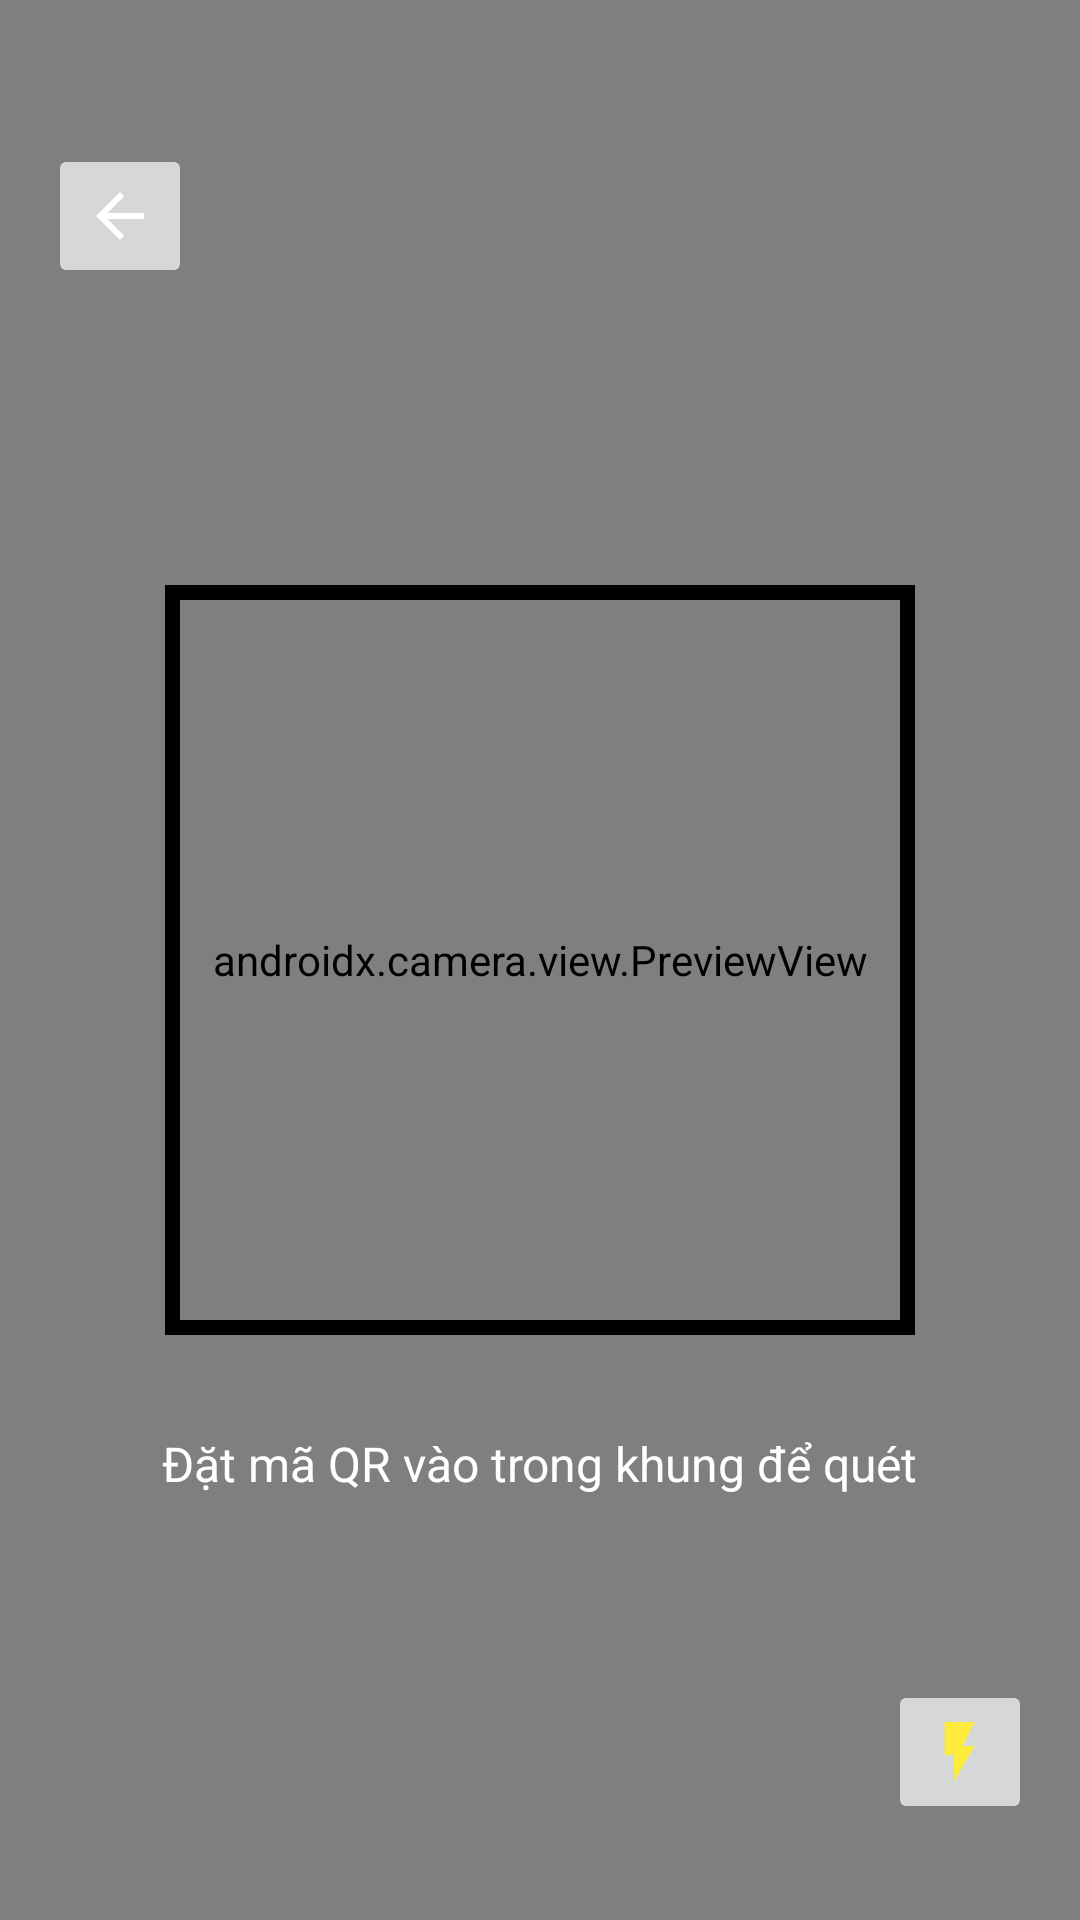

Where icons sit on this 1080px x 1920px app screen, as (x1, y1, x2, y2):
Bật/tắt đèn flash: (900, 1698, 1020, 1806)
Quay lại: (60, 162, 180, 270)
